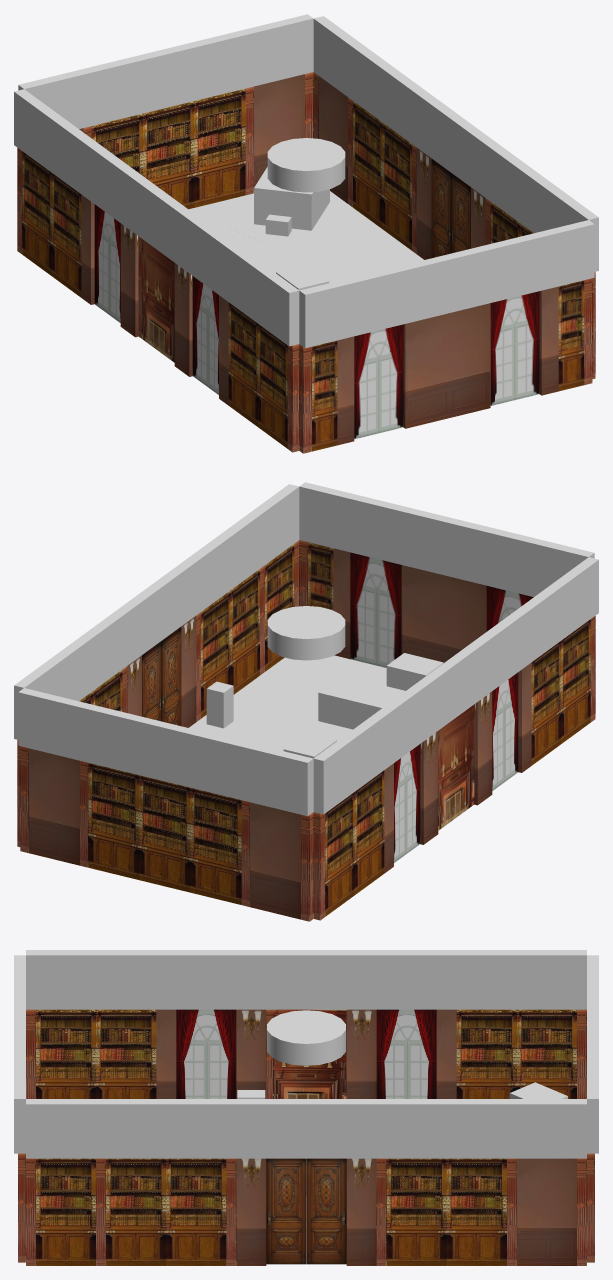
File: abc1.fbx
3 renders of one model, top to bottom at view 1: azimuth 30°, elevation 25°; view 2: azimuth 150°, elevation 25°; view 3: azimuth 270°, elevation 25°, orthographic.
Parts seen in each view (by area): view 1: Box112, Box113, Box111, Box114, Box149, Plane003, Box082, Box148, Box143, Box081, Cylinder009, Box108 (+34 smaller); view 2: Box112, Box114, Box111, Box113, Plane003, Box149, Box081, Box080, Box082, Box083, Box148, Box079 (+35 smaller); view 3: Box111, Box112, Box092, Box097, Box152, Box153, Box091, Box098, Box102, Box115, Box117, Box094 (+25 smaller).
Boxes of the visible parts, x1,y1,x2,y2 form: Box112: (14, 89, 299, 346); Box113: (299, 220, 594, 348); Box111: (313, 16, 598, 271); Box114: (18, 14, 313, 128); Box149: (403, 303, 490, 428); Plane003: (189, 191, 423, 279); Box082: (194, 88, 245, 207); Box148: (490, 291, 539, 405); Box143: (354, 324, 403, 439); Box081: (143, 101, 194, 209); Cylinder009: (267, 138, 345, 192); Box108: (138, 236, 174, 362); Box112: (313, 557, 598, 814); Box114: (18, 688, 313, 816); Box111: (14, 484, 299, 739); Box113: (299, 482, 594, 596); Plane003: (189, 655, 386, 747); Box149: (401, 565, 486, 662); Box081: (139, 775, 190, 892); Box080: (190, 788, 241, 904); Box082: (88, 763, 139, 879); Box083: (28, 748, 79, 865); Box148: (350, 552, 401, 667); Box079: (250, 802, 300, 919); Box111: (26, 1099, 586, 1158); Box112: (26, 950, 586, 1009); Box092: (446, 1158, 506, 1265); Box097: (106, 1158, 166, 1265); Box152: (386, 1158, 446, 1265); Box153: (166, 1158, 226, 1265); Box091: (517, 1158, 576, 1265); Box098: (36, 1158, 95, 1265); Box102: (376, 1009, 436, 1098); Box115: (176, 1009, 236, 1098); Box117: (96, 1009, 156, 1098); Box094: (456, 1009, 516, 1098).
Size of the model in its own units: 358 by 177 by 575.
Materials: 9 (9 with a texture image).
